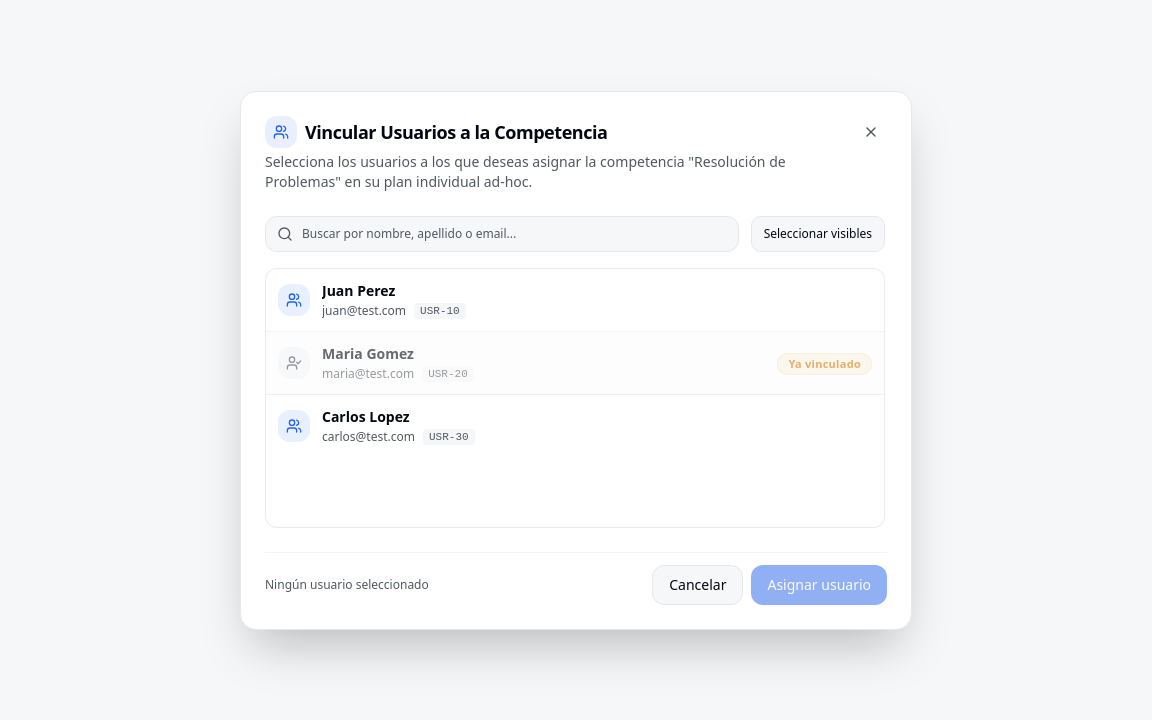
Test: AssignUsersToCompetencyModal › supports selecting all visible unassigned users
Expected: the text "Juan Perez" is shown, [322,280,395,300]
What coordinates should you click on to do the following:
click the button "Seleccionar visibles"
I would click on:
 (818, 234)
Its box is [751,216,885,252].
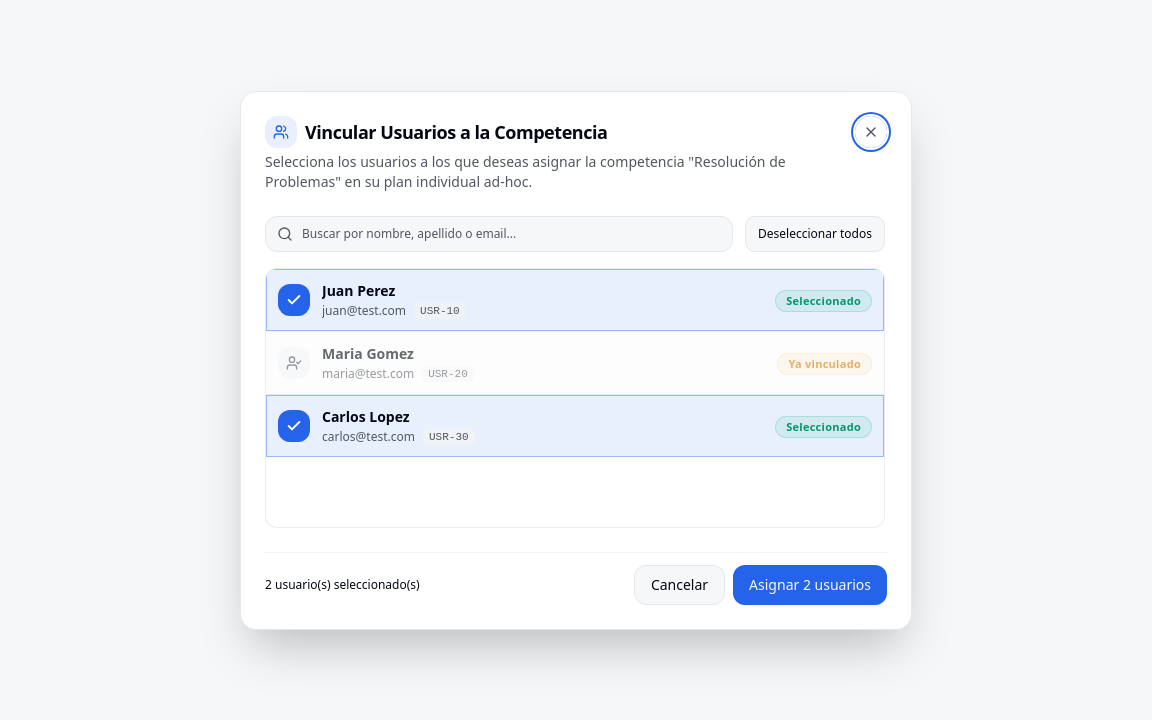
Expected: the text "2 usuario(s) seleccionado(s)" is shown, [265,576,420,592]
